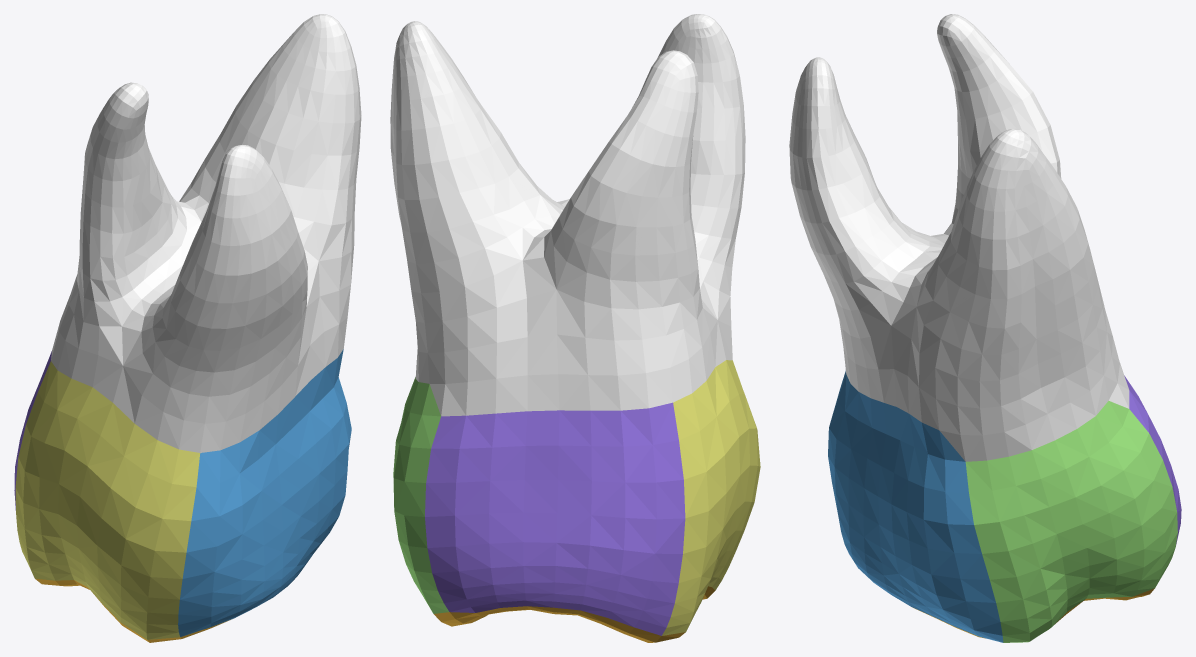
File: tooth_16_annotated.glb
3 renders of one model, left to right at view 1: azimuth 30°, elevation 25°; view 2: azimuth 150°, elevation 25°; view 3: azimuth 270°, elevation 25°, orthographic. The views are drawn at different scales.
Parts seen in each view (by area): view 1: FDI_16; view 2: FDI_16; view 3: FDI_16.
Part boxes in pixels (box(x1,y1,x2,y2)): FDI_16: box(14, 14, 361, 642); FDI_16: box(390, 14, 760, 642); FDI_16: box(789, 14, 1181, 642).
Bounding box in the file's own units: 0.0113 × 0.0183 × 0.0119.
